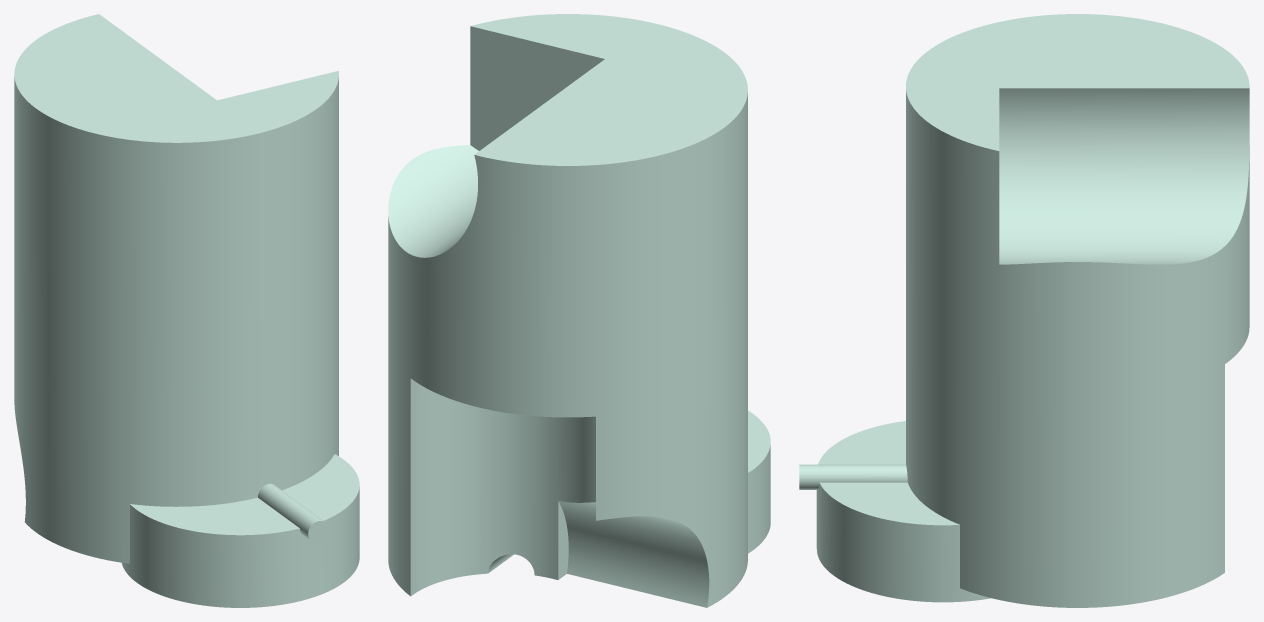
3 views of the same model, side by side, from view 1: azimuth 30°, elevation 25°; view 2: azimuth 150°, elevation 25°; view 3: azimuth 270°, elevation 25° (orthographic). The views are drawn at different scales.
Visible parts, largest first — view 1: Renderer Node; view 2: Renderer Node; view 3: Renderer Node.
Part boxes in pixels (x1=…): Renderer Node: x1=14, y1=14, x2=359, y2=607; Renderer Node: x1=388, y1=14, x2=770, y2=607; Renderer Node: x1=799, y1=14, x2=1249, y2=607.
Bounding box in the file's own units: 0.5368 × 0.7969 × 0.7031.
